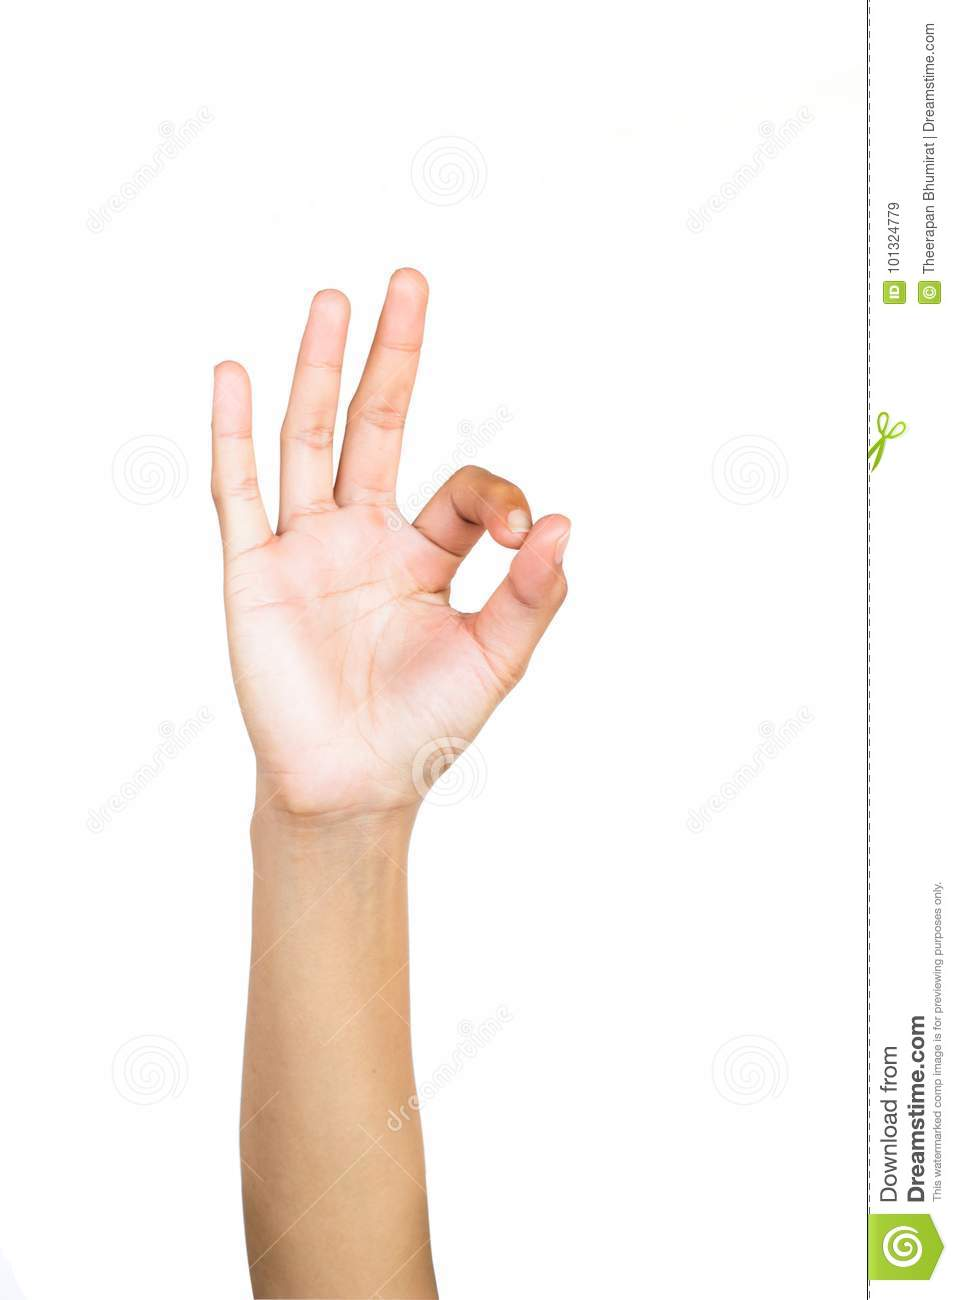oksign: (222, 267, 579, 780)
